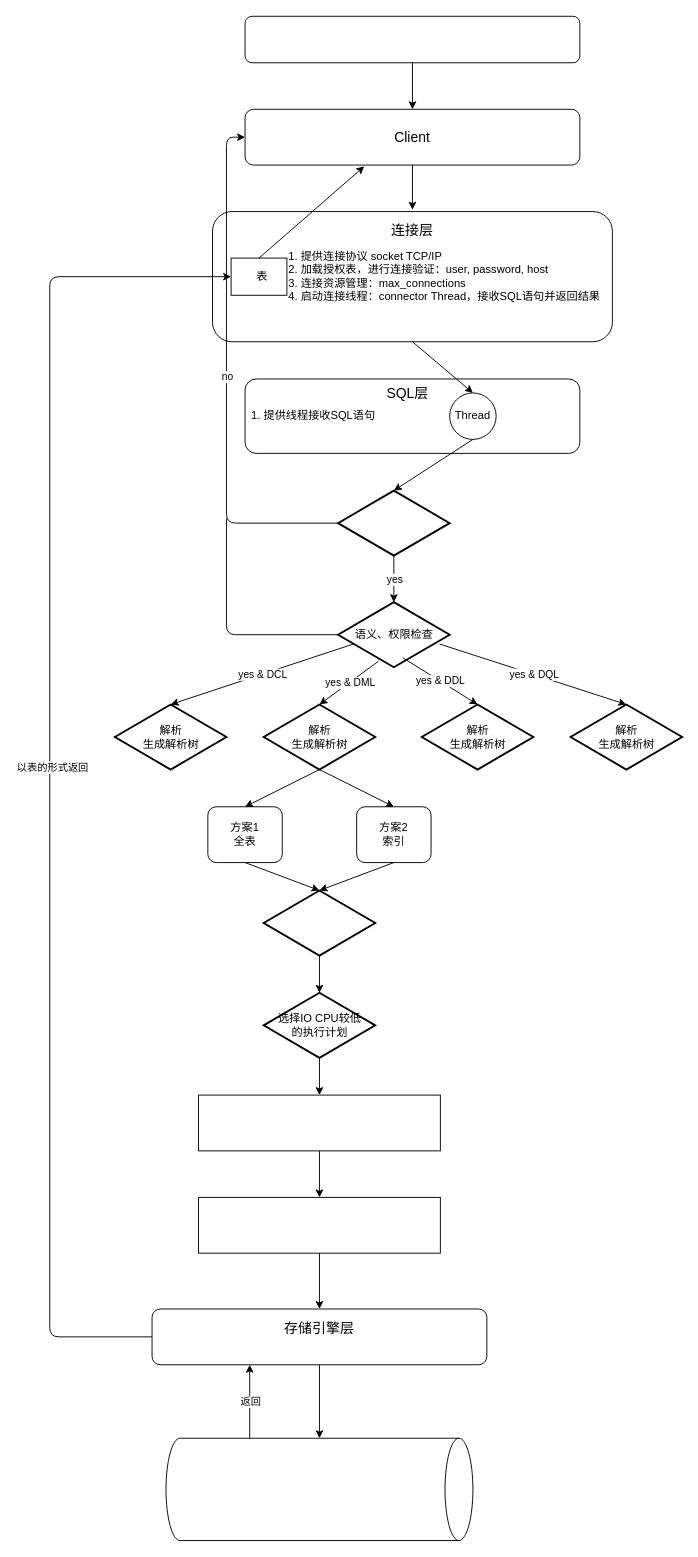
The diagram is 698 pixels wide and 1557 high, and some of its shapes have lost their labels. The shapes that lost their labels are listed below. From the top down, each one's box as (x1, y1, x2, y2) in pixels, then its label:
(244, 15, 580, 63): select user, host from mysql.user
(337, 489, 450, 556): 语法检查
(262, 889, 376, 956): 预处理 评估方案消耗
(198, 1094, 440, 1151): 按照执行计划，继续执行SQL语句
(198, 1196, 440, 1253): 拿数据
(165, 1437, 473, 1541): 文件系统
